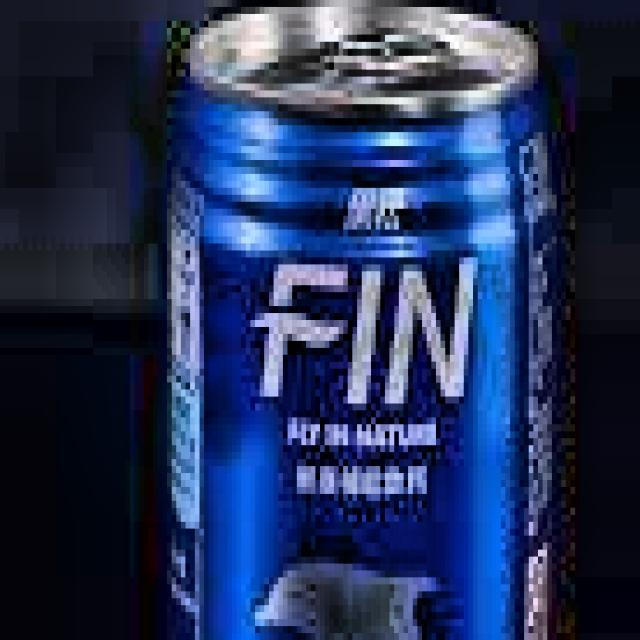metal: (153, 0, 566, 640)
